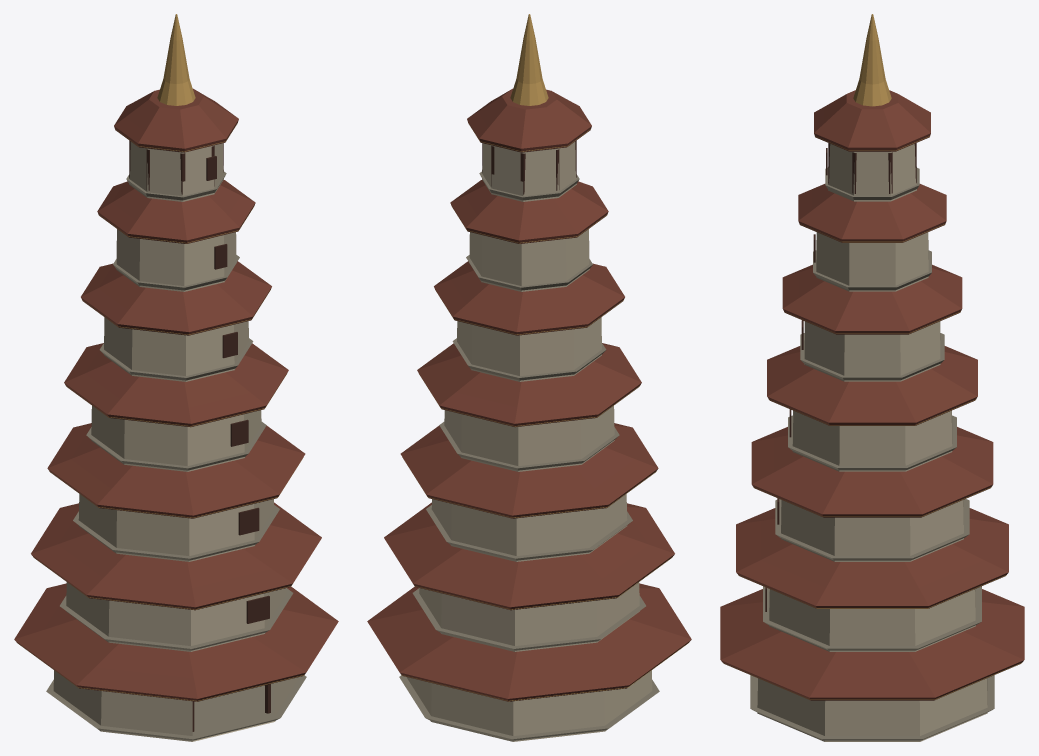
The model's file is bao-thap-blender.glb.
The picture shows the model from 3 angles, left to right: view 1: azimuth 30°, elevation 25°; view 2: azimuth 150°, elevation 25°; view 3: azimuth 270°, elevation 25°; orthographic projection.
Parts seen in each view (by area): view 1: bao-thap-blender-tile, bao-thap-blender-stone, bao-thap-blender-stone-dark, bao-thap-blender-gold, bao-thap-blender-wood-dark; view 2: bao-thap-blender-tile, bao-thap-blender-stone, bao-thap-blender-stone-dark, bao-thap-blender-gold, bao-thap-blender-wood-dark; view 3: bao-thap-blender-tile, bao-thap-blender-stone, bao-thap-blender-stone-dark, bao-thap-blender-gold, bao-thap-blender-wood-dark.
Boxes of the visible parts, left/top/right/bottom form: bao-thap-blender-tile: left=14, top=88, right=338, bottom=701; bao-thap-blender-stone: left=53, top=142, right=299, bottom=741; bao-thap-blender-stone-dark: left=46, top=171, right=306, bottom=740; bao-thap-blender-gold: left=16, top=14, right=304, bottom=701; bao-thap-blender-wood-dark: left=129, top=140, right=270, bottom=731; bao-thap-blender-tile: left=367, top=88, right=691, bottom=701; bao-thap-blender-stone: left=406, top=142, right=652, bottom=741; bao-thap-blender-stone-dark: left=399, top=171, right=659, bottom=740; bao-thap-blender-gold: left=401, top=14, right=689, bottom=701; bao-thap-blender-wood-dark: left=482, top=140, right=576, bottom=194; bao-thap-blender-tile: left=720, top=90, right=1024, bottom=700; bao-thap-blender-stone: left=757, top=144, right=987, bottom=741; bao-thap-blender-stone-dark: left=750, top=168, right=994, bottom=740; bao-thap-blender-gold: left=723, top=14, right=1021, bottom=699; bao-thap-blender-wood-dark: left=765, top=143, right=916, bottom=611.
Bounding box in the file's own units: 8.1 × 19.95 × 8.1.
